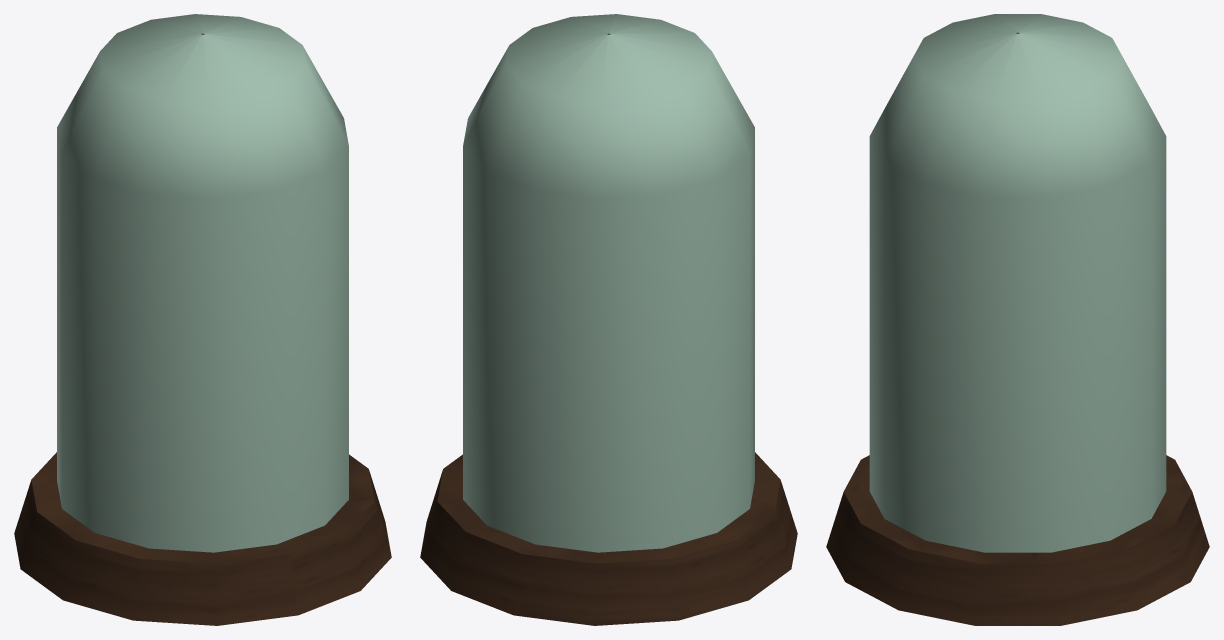
The model's file is bellJar.glb.
3 views of the same model, side by side, from view 1: azimuth 30°, elevation 25°; view 2: azimuth 150°, elevation 25°; view 3: azimuth 270°, elevation 25° (orthographic).
Visible parts, largest first — view 1: bellJar; view 2: bellJar; view 3: bellJar.
Part boxes in pixels (left/top/right/bottom): bellJar: left=14, top=14, right=391, bottom=625; bellJar: left=420, top=14, right=797, bottom=625; bellJar: left=826, top=14, right=1209, bottom=625.
Bounding box in the file's own units: 0.2145 × 0.3251 × 0.2201.
Materials: 3 (2 with a texture image).
